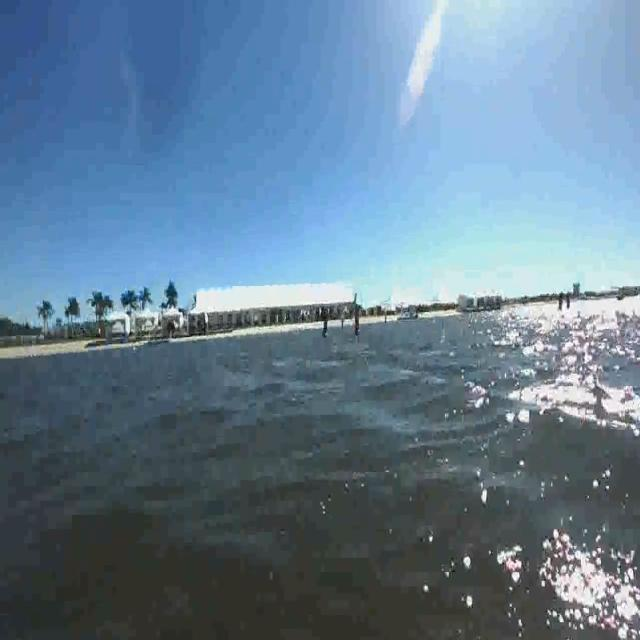green-column-buoy: (321, 309, 330, 338)
red-column-buoy: (352, 302, 362, 336)
